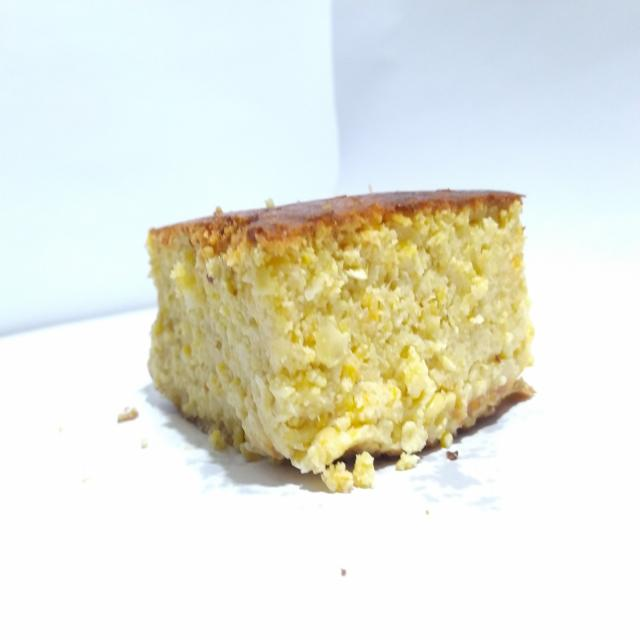Food: (133, 164, 541, 495)
